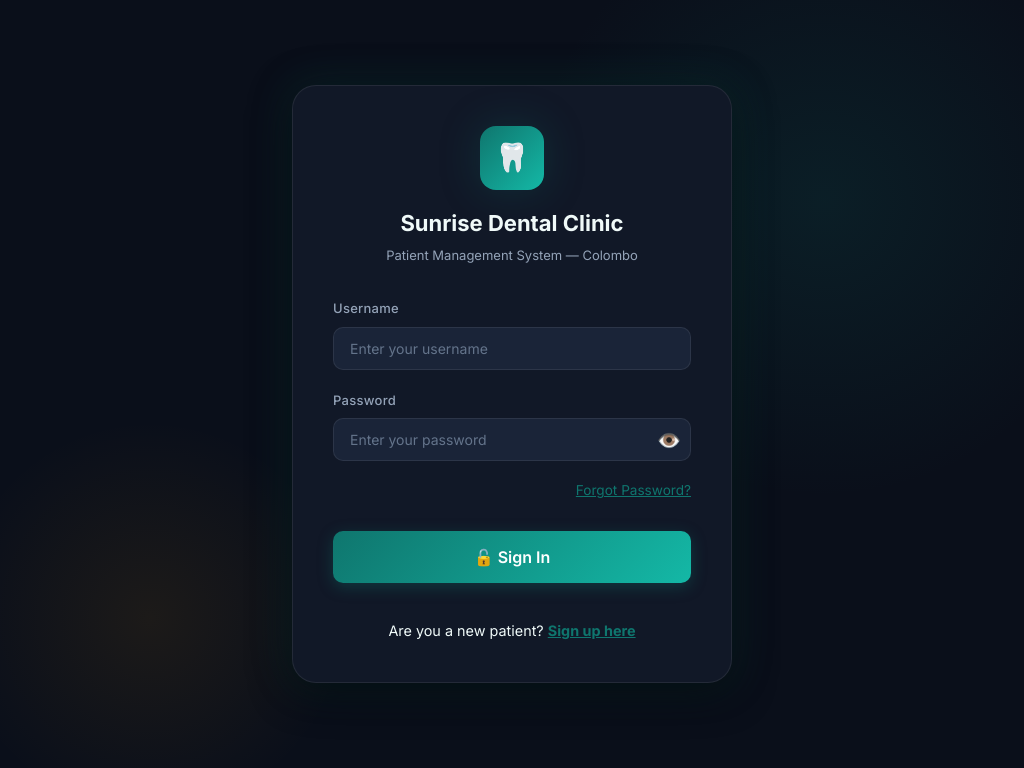
Test case: LoginPage Component › should show error when fields are empty
The width and height of the screenshot is (1024, 768).
Click the button "🔓 Sign In" at (512, 557), box [333,531,691,583]
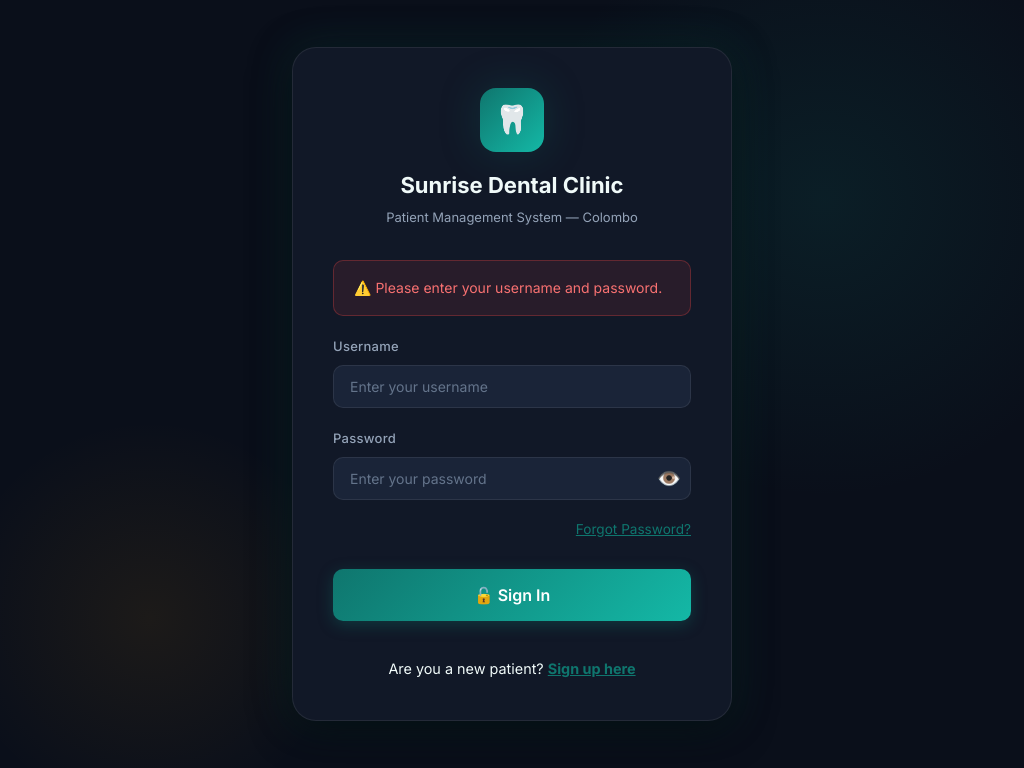
Expected: the text "⚠️ Please enter your username and password." is shown, [333,260,691,316]
